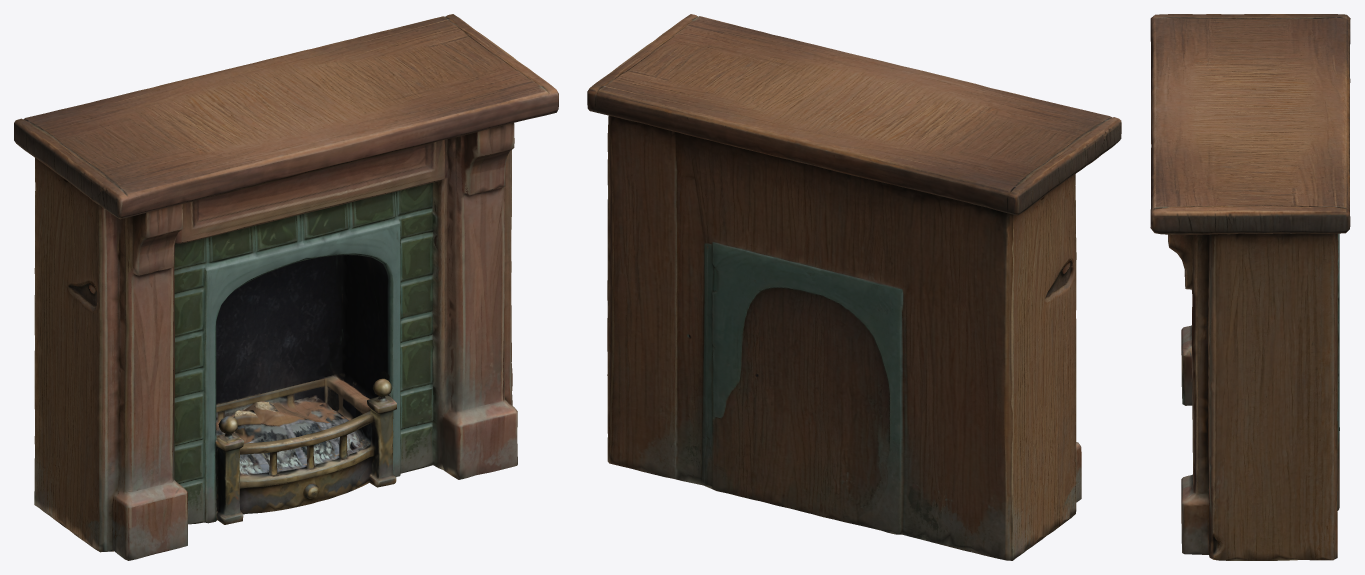
File: Furn_Fireplace.fbx
The picture shows the model from 3 angles, left to right: view 1: azimuth 30°, elevation 25°; view 2: azimuth 150°, elevation 25°; view 3: azimuth 270°, elevation 25°; orthographic projection. The views are drawn at different scales.
Visible parts, largest first — view 1: texture_mapping; view 2: texture_mapping; view 3: texture_mapping.
Boxes of the visible parts, x1,y1,x2,y2 form: texture_mapping: (14, 14, 558, 560); texture_mapping: (587, 14, 1121, 560); texture_mapping: (1150, 14, 1350, 560).
Bounding box in the file's own units: 1 × 0.4247 × 0.8341.
1 material, 1 textured.
